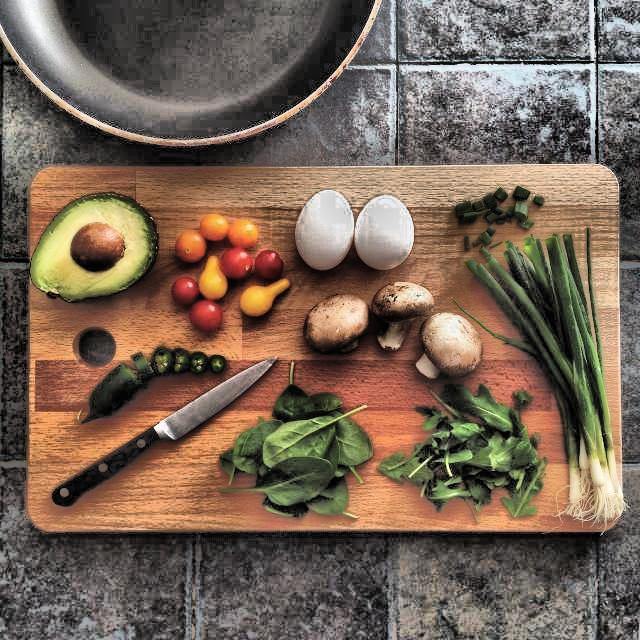knife: (48, 359, 278, 509)
